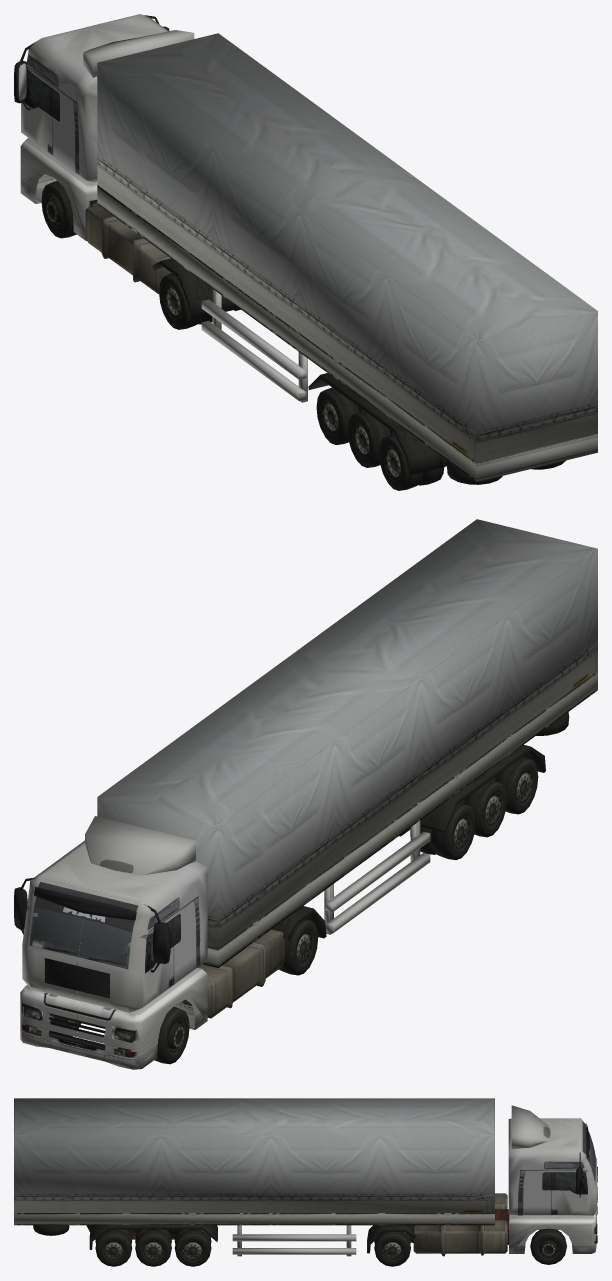
The model's file is truckMas_trailer.FBX.
3 renders of one model, top to bottom at view 1: azimuth 30°, elevation 25°; view 2: azimuth 150°, elevation 25°; view 3: azimuth 270°, elevation 25°, orthographic. The views are drawn at different scales.
Parts seen in each view (by area): view 1: trailer, MODEL, BackWheels, trailerwheel 2, trailerWheel_1, wheels, wheels001; view 2: trailer, MODEL, trailerWheel_1, BackWheels, trailerwheel 2, wheels001, wheels; view 3: trailer, MODEL, trailerWheel 4, trailerWheel 3, trailer wheels, RR, FR.
Boxes of the visible parts, left/top/right/bottom form: trailer: left=97, top=33, right=597, bottom=484; MODEL: left=14, top=14, right=240, bottom=320; BackWheels: left=379, top=433, right=444, bottom=490; trailerwheel 2: left=347, top=410, right=393, bottom=467; trailerWheel_1: left=316, top=387, right=362, bottom=444; wheels: left=41, top=181, right=76, bottom=238; wheels001: left=159, top=273, right=212, bottom=329; trailer: left=97, top=519, right=597, bottom=967; MODEL: left=14, top=816, right=326, bottom=1069; trailerWheel_1: left=410, top=802, right=475, bottom=859; BackWheels: left=491, top=757, right=538, bottom=814; trailerwheel 2: left=460, top=779, right=506, bottom=837; wheels001: left=278, top=919, right=318, bottom=975; wheels: left=154, top=1006, right=189, bottom=1064; trailer: left=14, top=1098, right=494, bottom=1256; MODEL: left=367, top=1105, right=597, bottom=1256; trailerWheel 4: left=135, top=1229, right=171, bottom=1266; trailerWheel 3: left=174, top=1229, right=211, bottom=1266; trailer wheels: left=95, top=1229, right=132, bottom=1266; RR: left=374, top=1232, right=410, bottom=1266; FR: left=530, top=1228, right=566, bottom=1264.
Size of the model in its own units: 119 by 150 by 610.
